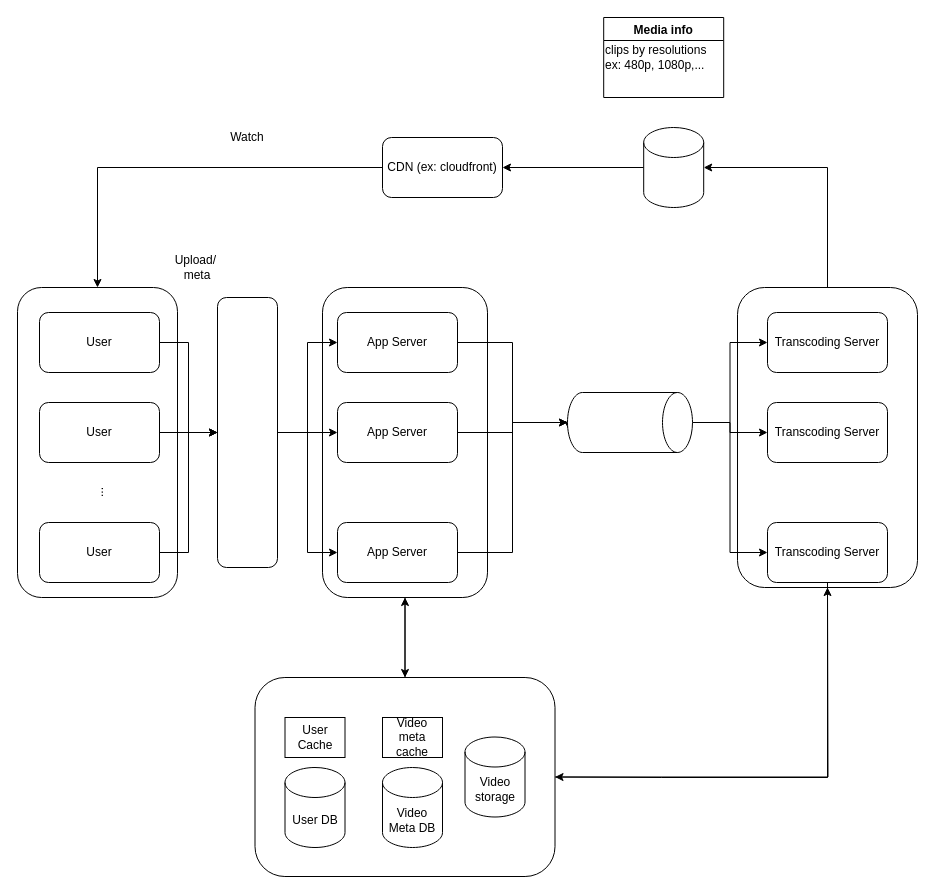
This 935x894 diagram has some shape labels left out. The centre of each missing label's shape, as x and y in pixels:
"LB" belongs at pixel 247 432.
"Media Storage" belongs at pixel 673 167.
"Transcoding Task Queue" belongs at pixel 629 422.
